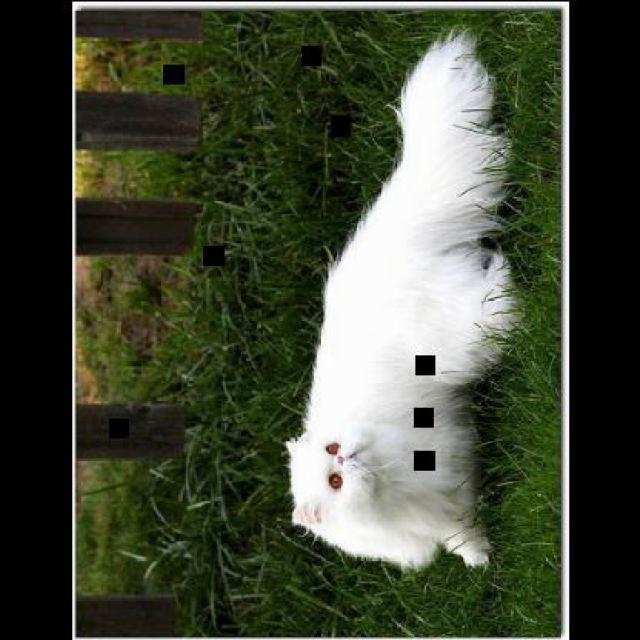unauthorized: (283, 26, 523, 572)
